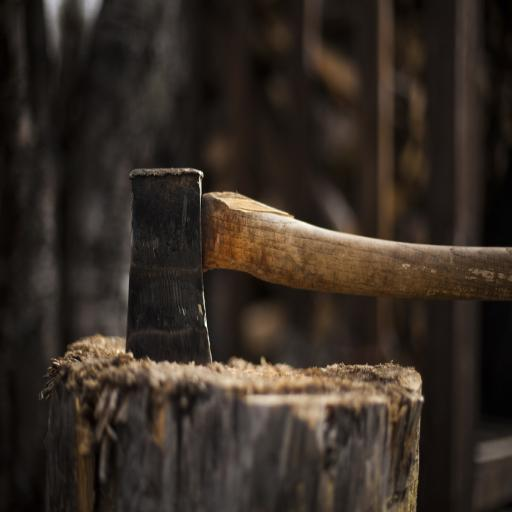Axe: (126, 169, 512, 362)
